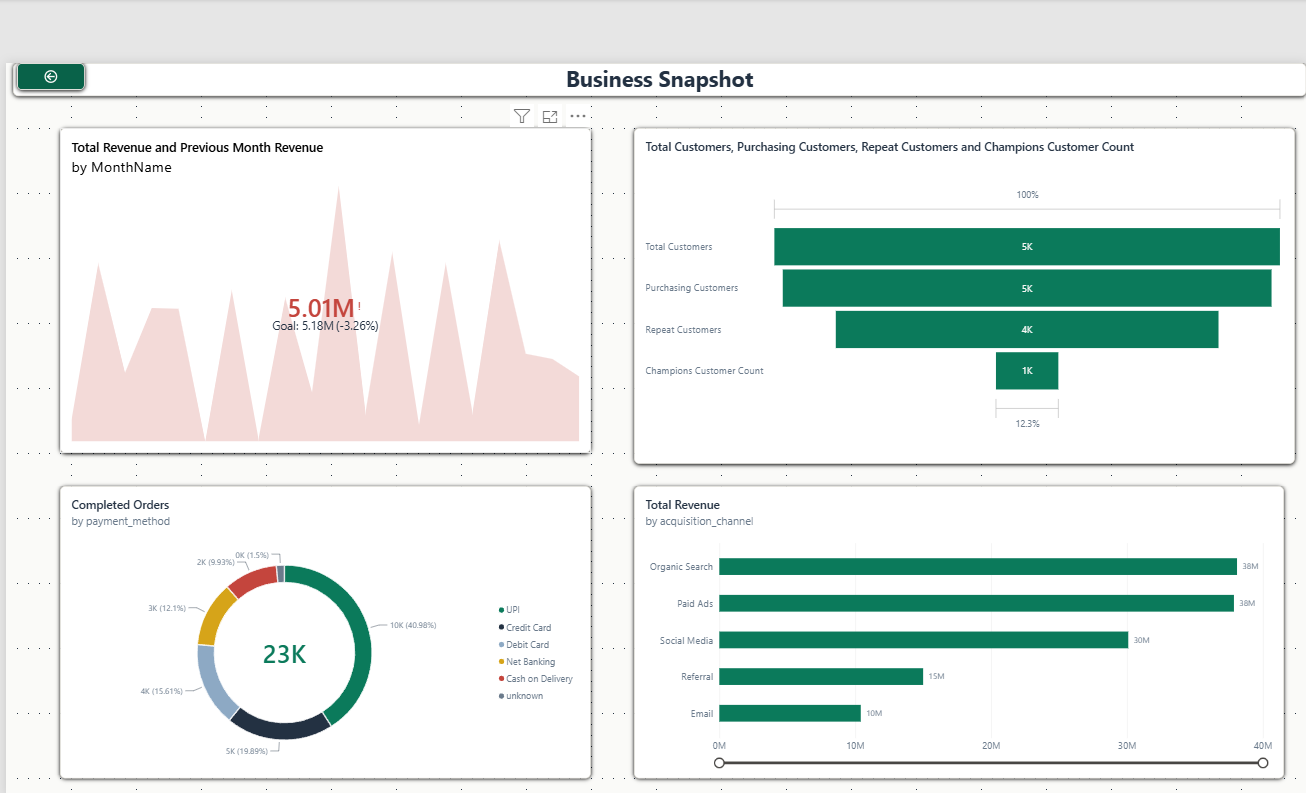

The page's visual inventory and layout, read from the dashboard file:
{"tool":"powerbi","page":{"name":"Business Snapshot","canvas":[1920,1080],"ordinal":5},"visuals":[{"type":"textbox","box":[10.3,0,1909.7,48.7],"z":0},{"type":"kpi","fields":{"Indicator":["_Measure.Total Revenue"],"Goal":["_Measure.Previous Month Revenue"],"TrendLine":["Calendar.MonthName"]},"box":[80,96,784,480],"z":3},{"type":"funnel","fields":{"Y":["_Measure.Total Customers","_Measure.Purchasing Customers","_Measure.Repeat Customers","_Measure.Champions Customer Count"]},"box":[928,96,976,496],"z":4},{"type":"donutChart","fields":{"Category":["orders_clean.payment_method"],"Y":["_Measure.Completed Orders"]},"box":[80,624,784,432],"z":5},{"type":"actionButton","box":[16,0,100,40],"z":6},{"type":"clusteredBarChart","fields":{"Category":["customer_360_final.acquisition_channel"],"Y":["_Measure.Total Revenue"]},"box":[928,624,960,432],"z":7}]}

Visuals, with their boxes in screenshot pixels (x1, y1, x2, y2):
textbox: (14,61,1295,94)
kpi - _Measure.Total Revenue x _Measure.Previous Month Revenue: (60,126,586,448)
funnel - _Measure.Total Customers x _Measure.Purchasing Customers: (629,126,1284,458)
donutChart - orders_clean.payment_method x _Measure.Completed Orders: (60,480,586,770)
actionButton: (18,61,85,88)
clusteredBarChart - customer_360_final.acquisition_channel x _Measure.Total Revenue: (629,480,1273,770)
